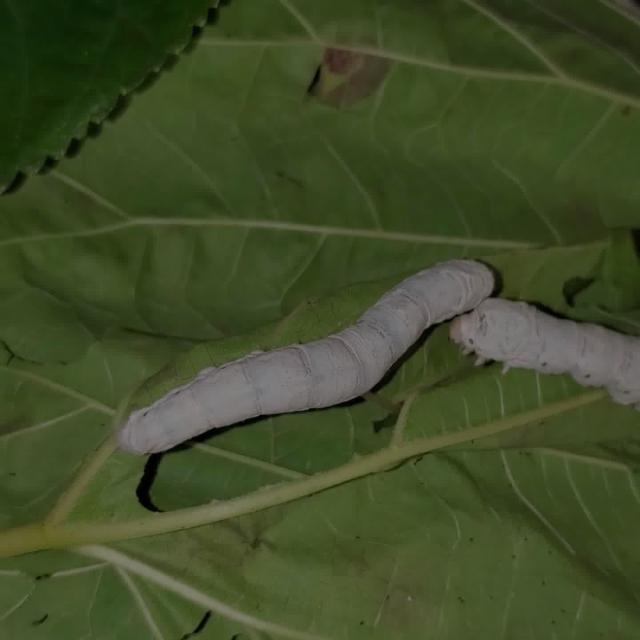Healthy: (87, 201, 640, 503)
